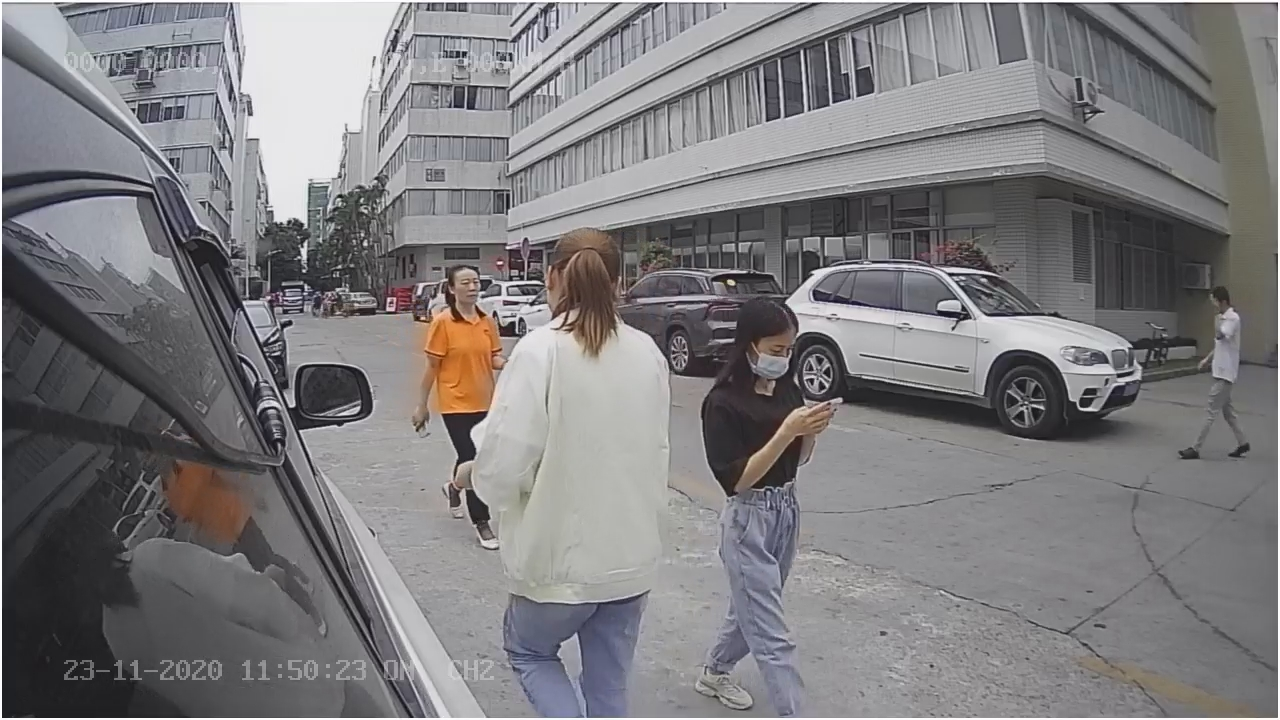person: (699, 295, 840, 509), (1175, 276, 1252, 467)
